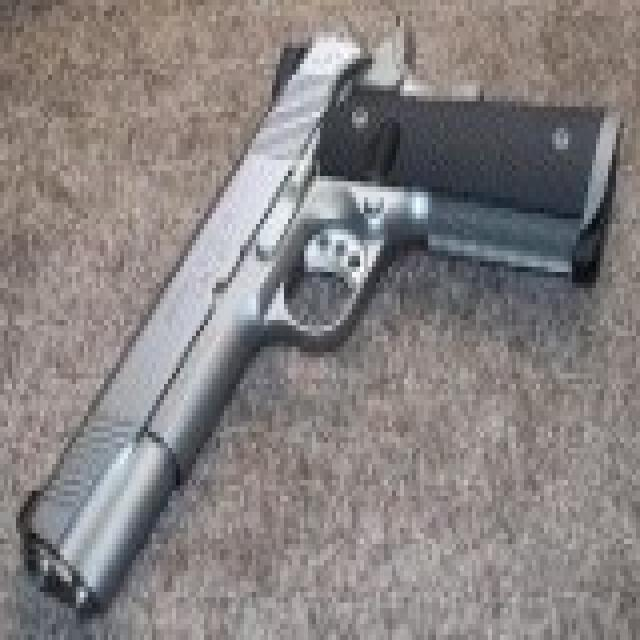Gun: (17, 21, 636, 619)
